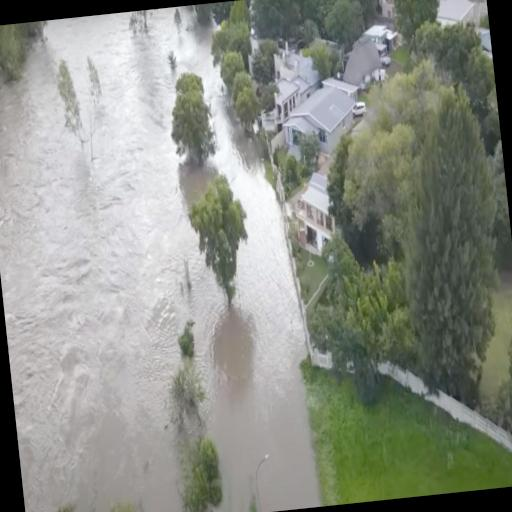flood: (0, 8, 319, 512)
house: (278, 77, 361, 172), (335, 20, 403, 91), (292, 163, 338, 255), (267, 38, 316, 82), (266, 78, 308, 126), (432, 0, 479, 30)
